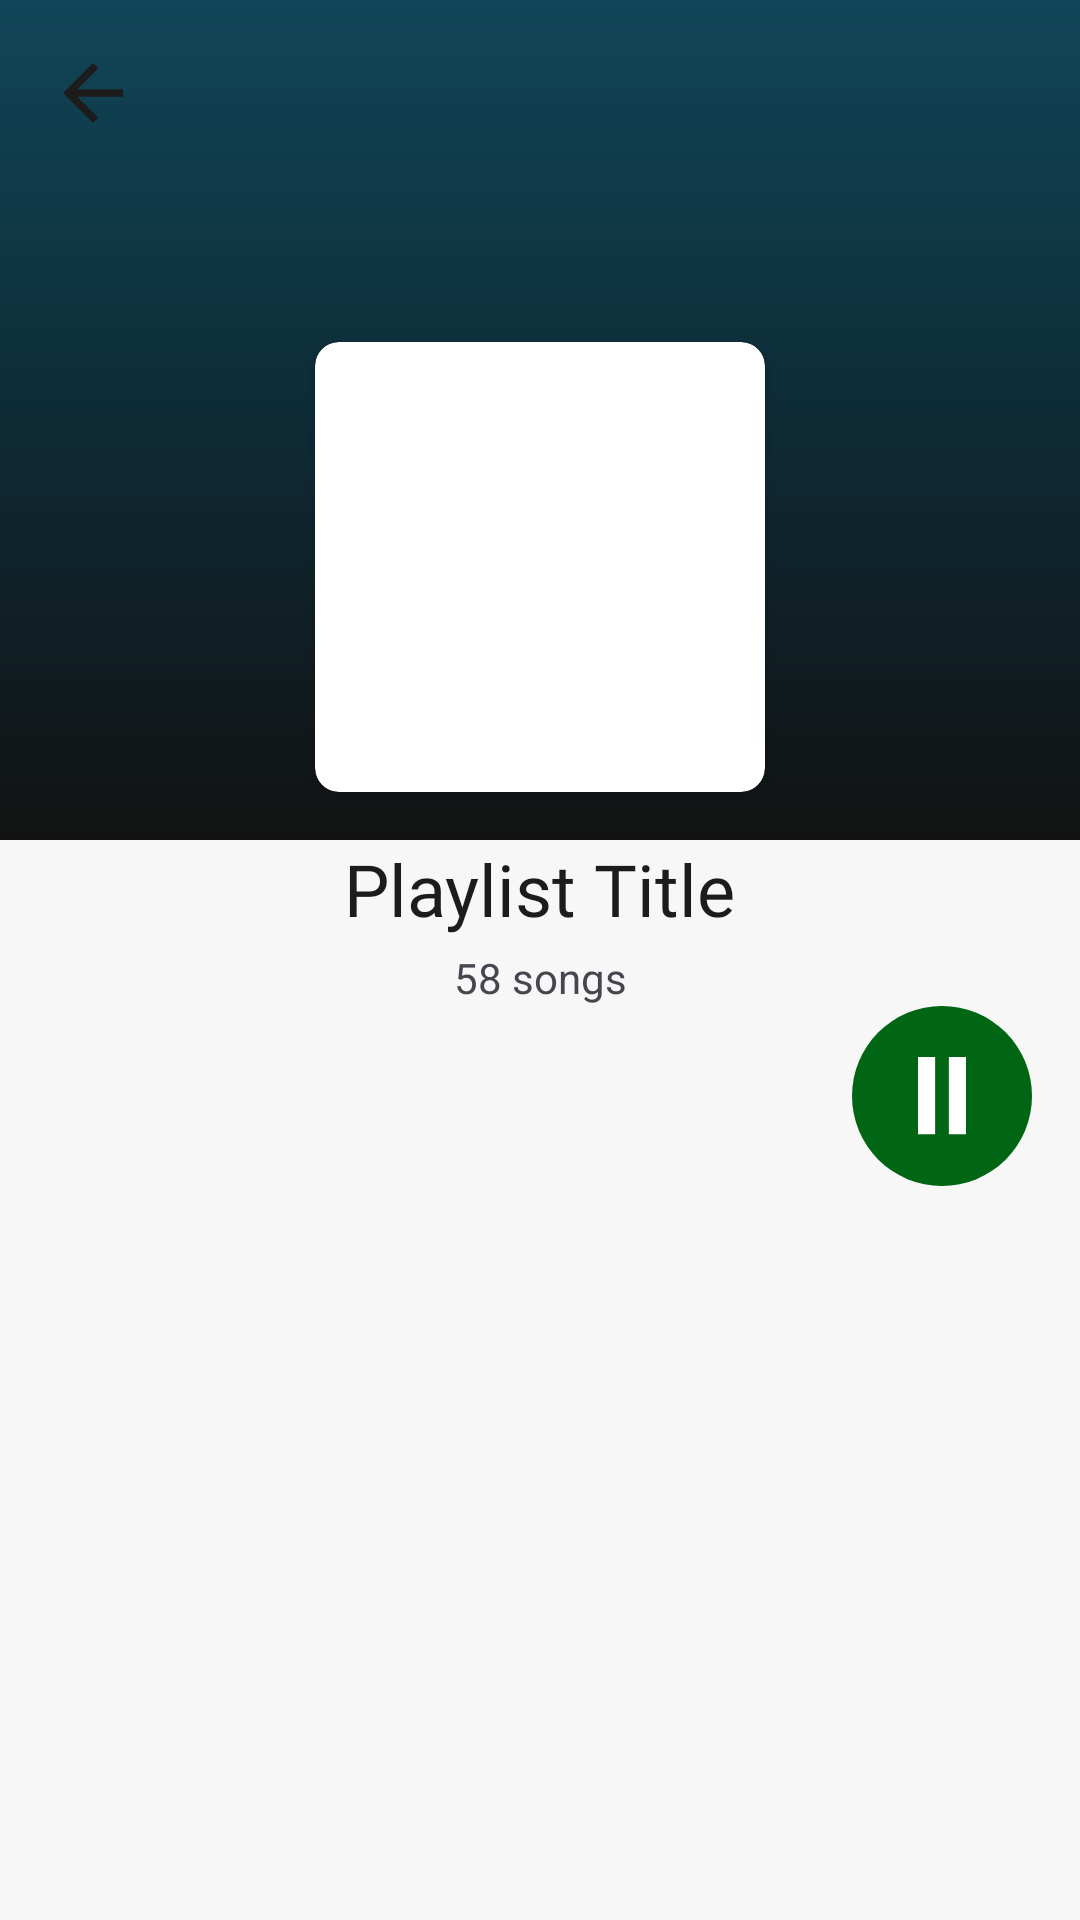

Icon bounding boxes for this 1080w x 1920h phone screenshot, format Rect(x1, y1, x2, y2):
arrow back: Rect(63, 63, 123, 123)
play to pause: Rect(852, 1006, 1032, 1186)
